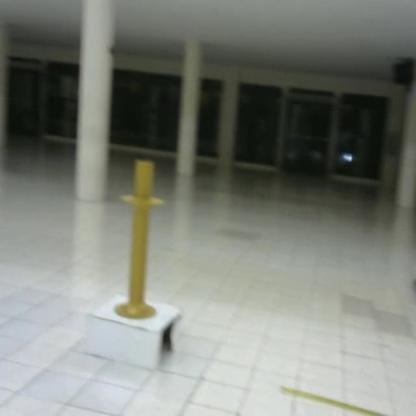pole: (112, 156, 168, 326)
